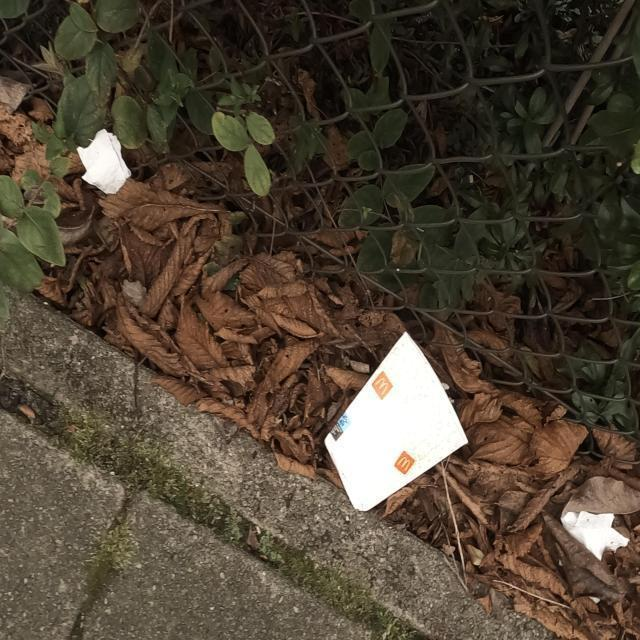Cup: (322, 330, 470, 516)
Paper: (562, 506, 632, 606), (75, 126, 133, 196)
